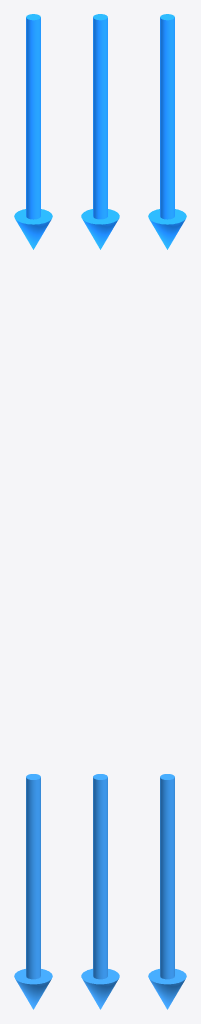
File: activated_alumina_adsorber_flow.glb
The picture shows the model from 3 angles, left to right: view 1: azimuth 90°, elevation 25°; view 2: azimuth 150°, elevation 25°; view 3: azimuth 270°, elevation 25°; orthographic projection.
Parts seen in each view (by area): view 1: treated, feed; view 2: feed, treated; view 3: treated, feed.
Boxes of the visible parts, left/top/right/bottom form: treated: left=14, top=774, right=52, bottom=1009; feed: left=14, top=14, right=52, bottom=249; feed: left=81, top=14, right=119, bottom=249; treated: left=81, top=774, right=119, bottom=1009; treated: left=148, top=774, right=186, bottom=1009; feed: left=148, top=14, right=186, bottom=249.
Size of the model in its own units: 0.104 by 2.94 by 0.104.
